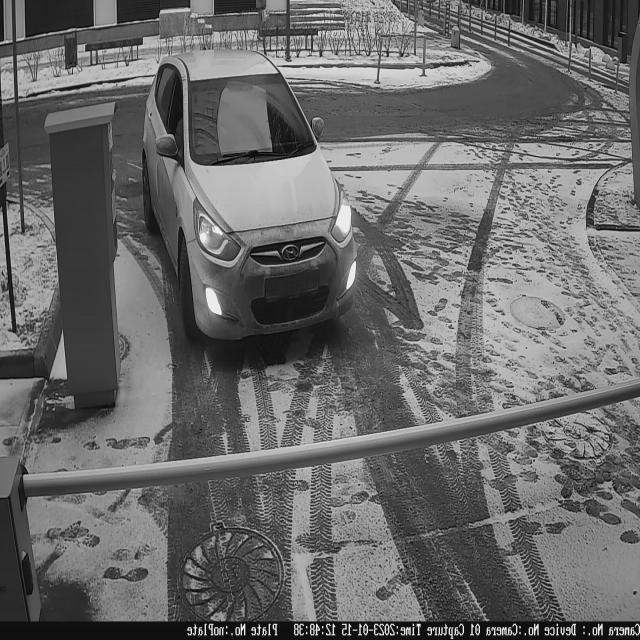car-plate-numbers: (262, 264, 323, 307)
